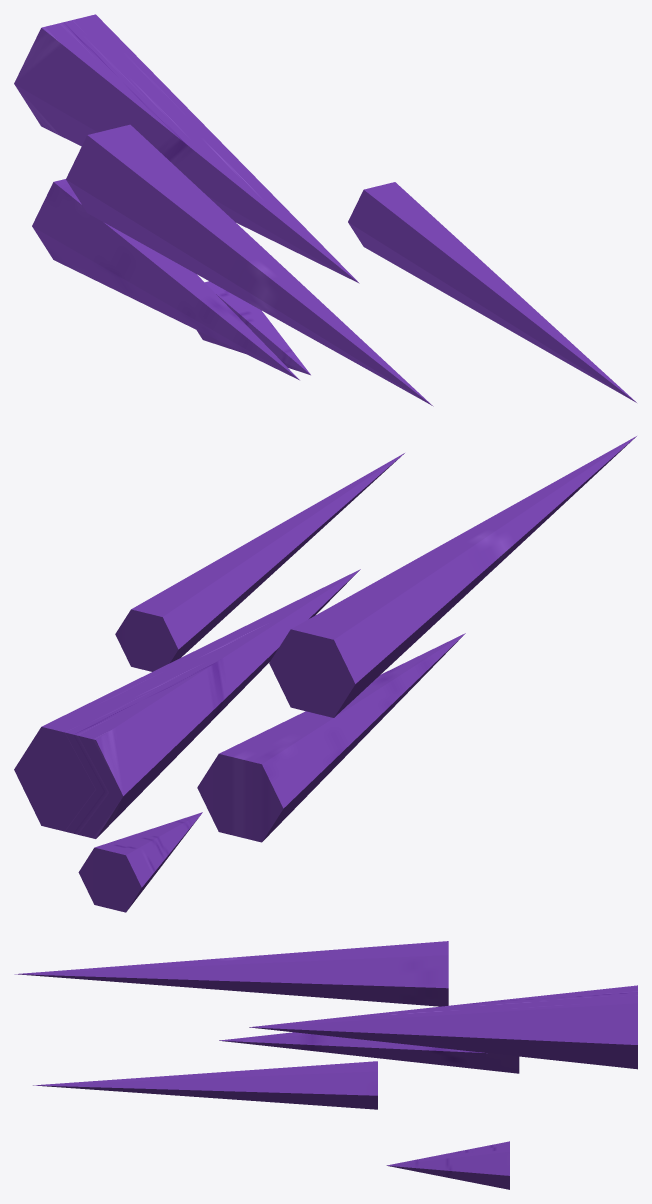
File: rift_crystal_cluster_lod1.glb
The picture shows the model from 3 angles, top to bottom: view 1: azimuth 30°, elevation 25°; view 2: azimuth 150°, elevation 25°; view 3: azimuth 270°, elevation 25°; orthographic projection. The views are drawn at different scales.
Visible parts, largest first — view 1: rift_2, rift_1, rift_4, rift_3, rift_0; view 2: rift_2, rift_1, rift_4, rift_3, rift_0; view 3: rift_2, rift_1, rift_3, rift_4, rift_0.
Part boxes in pixels (x1,y1,x2,y2): rift_2: [14, 14, 359, 283]; rift_1: [66, 124, 433, 406]; rift_4: [32, 179, 299, 380]; rift_3: [348, 182, 636, 402]; rift_0: [196, 281, 310, 375]; rift_2: [14, 569, 360, 838]; rift_1: [269, 436, 636, 717]; rift_4: [197, 633, 465, 842]; rift_3: [115, 453, 404, 671]; rift_0: [78, 812, 202, 912]; rift_2: [249, 985, 637, 1069]; rift_1: [14, 941, 448, 1006]; rift_3: [33, 1061, 377, 1109]; rift_4: [219, 1032, 519, 1073]; rift_0: [386, 1141, 509, 1189].
Bounding box in the file's own units: 5.09 × 4.63 × 14.07.
1 material, 1 textured.
